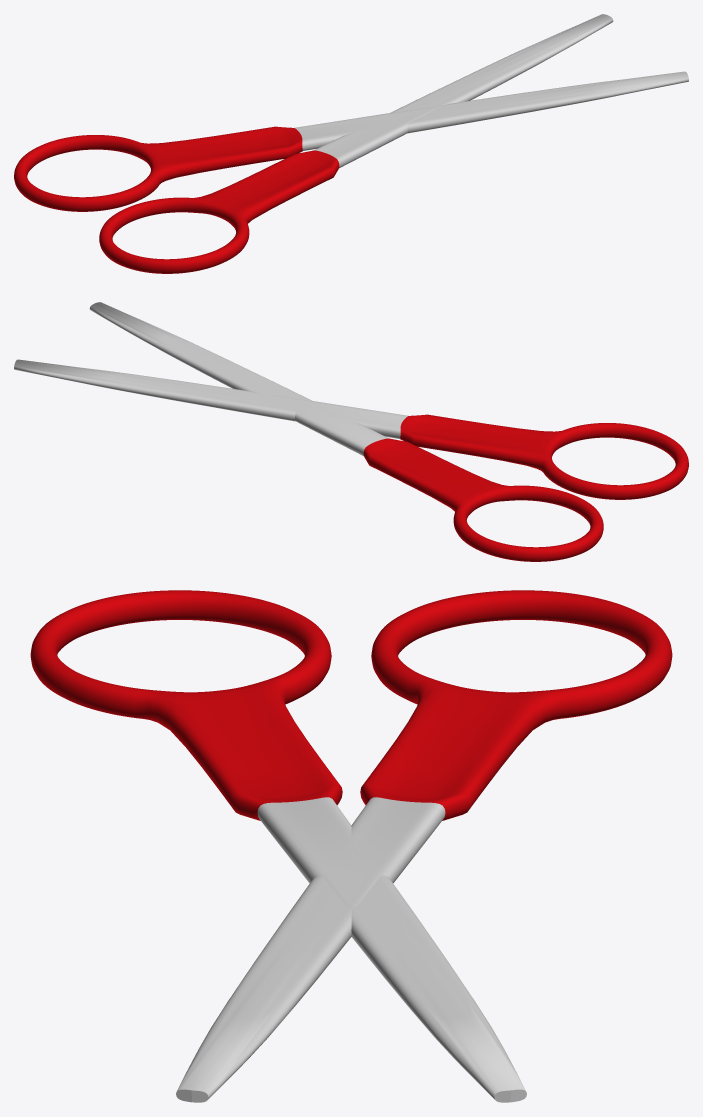
Rendered from Scissors.fbx.
The picture shows the model from 3 angles, top to bottom: view 1: azimuth 30°, elevation 25°; view 2: azimuth 150°, elevation 25°; view 3: azimuth 270°, elevation 25°; orthographic projection. The views are drawn at different scales.
Parts seen in each view (by area): view 1: Scissors; view 2: Scissors; view 3: Scissors.
Part boxes in pixels (bbox=[...]): Scissors: bbox=[14, 14, 688, 273]; Scissors: bbox=[14, 302, 688, 561]; Scissors: bbox=[30, 590, 672, 1102].
Size of the model in its own units: 122 by 8.99 by 58.42.
